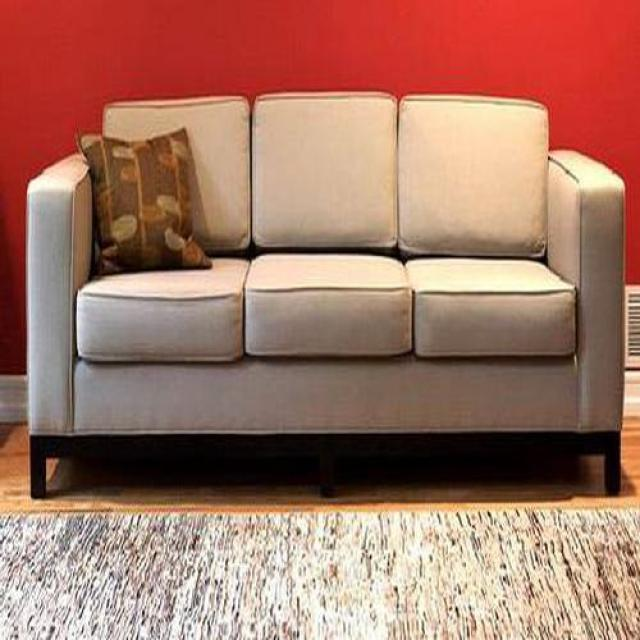sofa: (24, 91, 626, 497)
